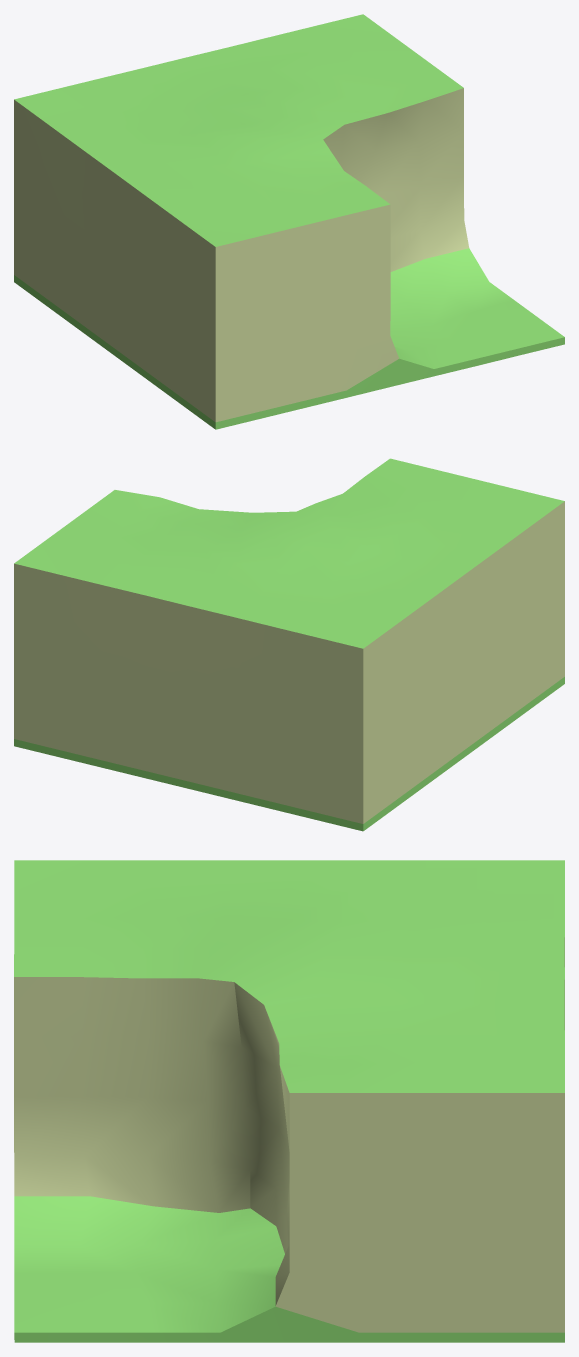
File: wall_convex_1.glb
3 renders of one model, top to bottom at view 1: azimuth 30°, elevation 25°; view 2: azimuth 150°, elevation 25°; view 3: azimuth 270°, elevation 25°, orthographic. The views are drawn at different scales.
Visible parts, largest first — view 1: wall_convex_1; view 2: wall_convex_1; view 3: wall_convex_1.
Part boxes in pixels (x1,y1,x2,y2): wall_convex_1: (14, 14, 564, 429); wall_convex_1: (14, 458, 564, 831); wall_convex_1: (14, 860, 564, 1342).
Size of the model in its own units: 2 by 1.04 by 2.
